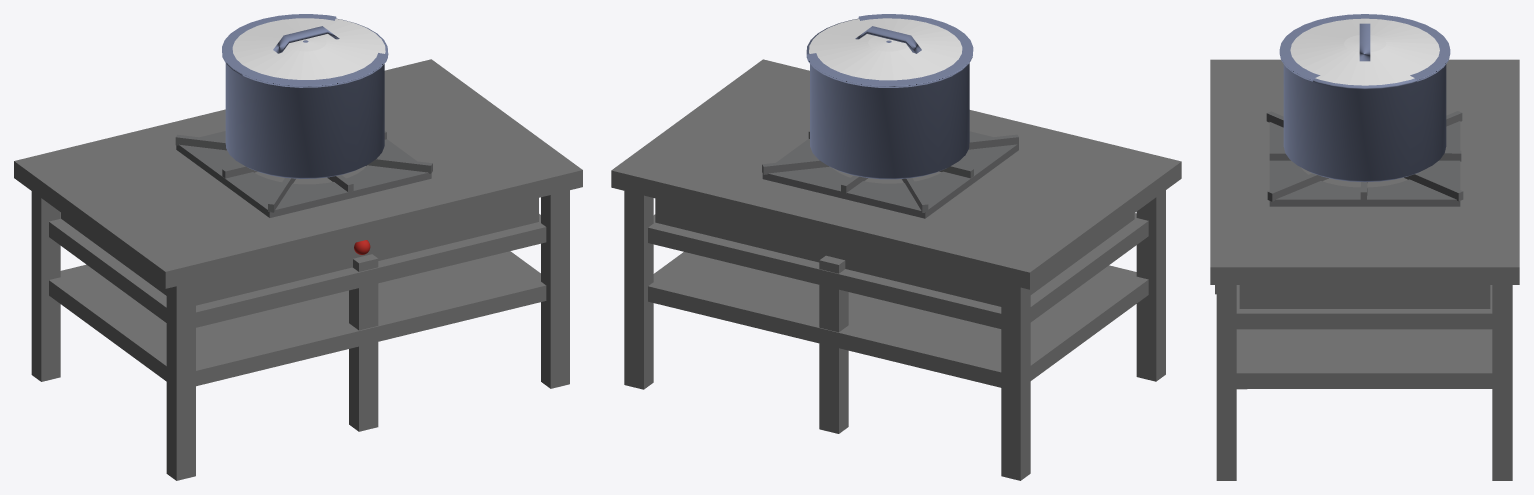
File: Pot.fbx
The picture shows the model from 3 angles, left to right: view 1: azimuth 30°, elevation 25°; view 2: azimuth 150°, elevation 25°; view 3: azimuth 270°, elevation 25°; orthographic projection. The views are drawn at different scales.
Parts seen in each view (by area): view 1: Cube.011, Cube.010, Cylinder.024, Cube.012, Cube.013, Sphere.010, Cube.014, Cube.009, Cube.006, Cube.008, Cube.024, Cylinder.026 (+2 smaller); view 2: Cube.011, Cube.010, Cylinder.024, Cube.012, Cube.013, Sphere.010, Cube.014, Cube.008, Cube.007, Cube.009, Cube.023, Cylinder.026 (+2 smaller); view 3: Cube.011, Cylinder.024, Cube.010, Sphere.010, Cube.013, Cube.014, Cube.012, Cube.006, Cube.007, Cylinder.026, Cube.018, Cube.016 (+1 smaller).
Boxes of the visible parts, x1,y1,x2,y2 form: Cube.011: (14,59,582,288); Cube.010: (49,251,546,386); Cylinder.024: (225,18,388,178); Cube.012: (49,212,546,327); Cube.013: (61,198,538,305); Sphere.010: (232,18,385,79); Cube.014: (176,131,431,217); Cube.009: (166,281,195,480); Cube.006: (541,190,569,388); Cube.008: (31,191,60,381); Cube.024: (349,254,378,431); Cylinder.026: (222,14,387,87); Cube.011: (611,59,1181,289); Cube.010: (648,252,1148,387); Cylinder.024: (806,18,969,179); Cube.012: (648,213,1148,328); Cube.013: (655,198,1134,306); Sphere.010: (809,18,962,80); Cube.014: (762,131,1018,218); Cube.008: (1001,283,1030,480); Cube.007: (624,191,653,389); Cube.009: (1136,190,1165,381); Cube.023: (819,255,848,433); Cylinder.026: (806,14,973,87); Cube.011: (1210,59,1519,284); Cylinder.024: (1283,64,1446,182); Cube.010: (1236,329,1492,388); Sphere.010: (1290,18,1439,85); Cube.013: (1239,285,1490,308); Cube.014: (1269,121,1460,206); Cube.012: (1236,285,1492,329); Cube.006: (1216,285,1236,480); Cube.007: (1492,285,1512,480); Cylinder.026: (1279,14,1450,81); Cube.018: (1267,173,1328,201); Cube.016: (1404,172,1463,201).
Bounding box in the file's own units: 861 × 682 × 541.
